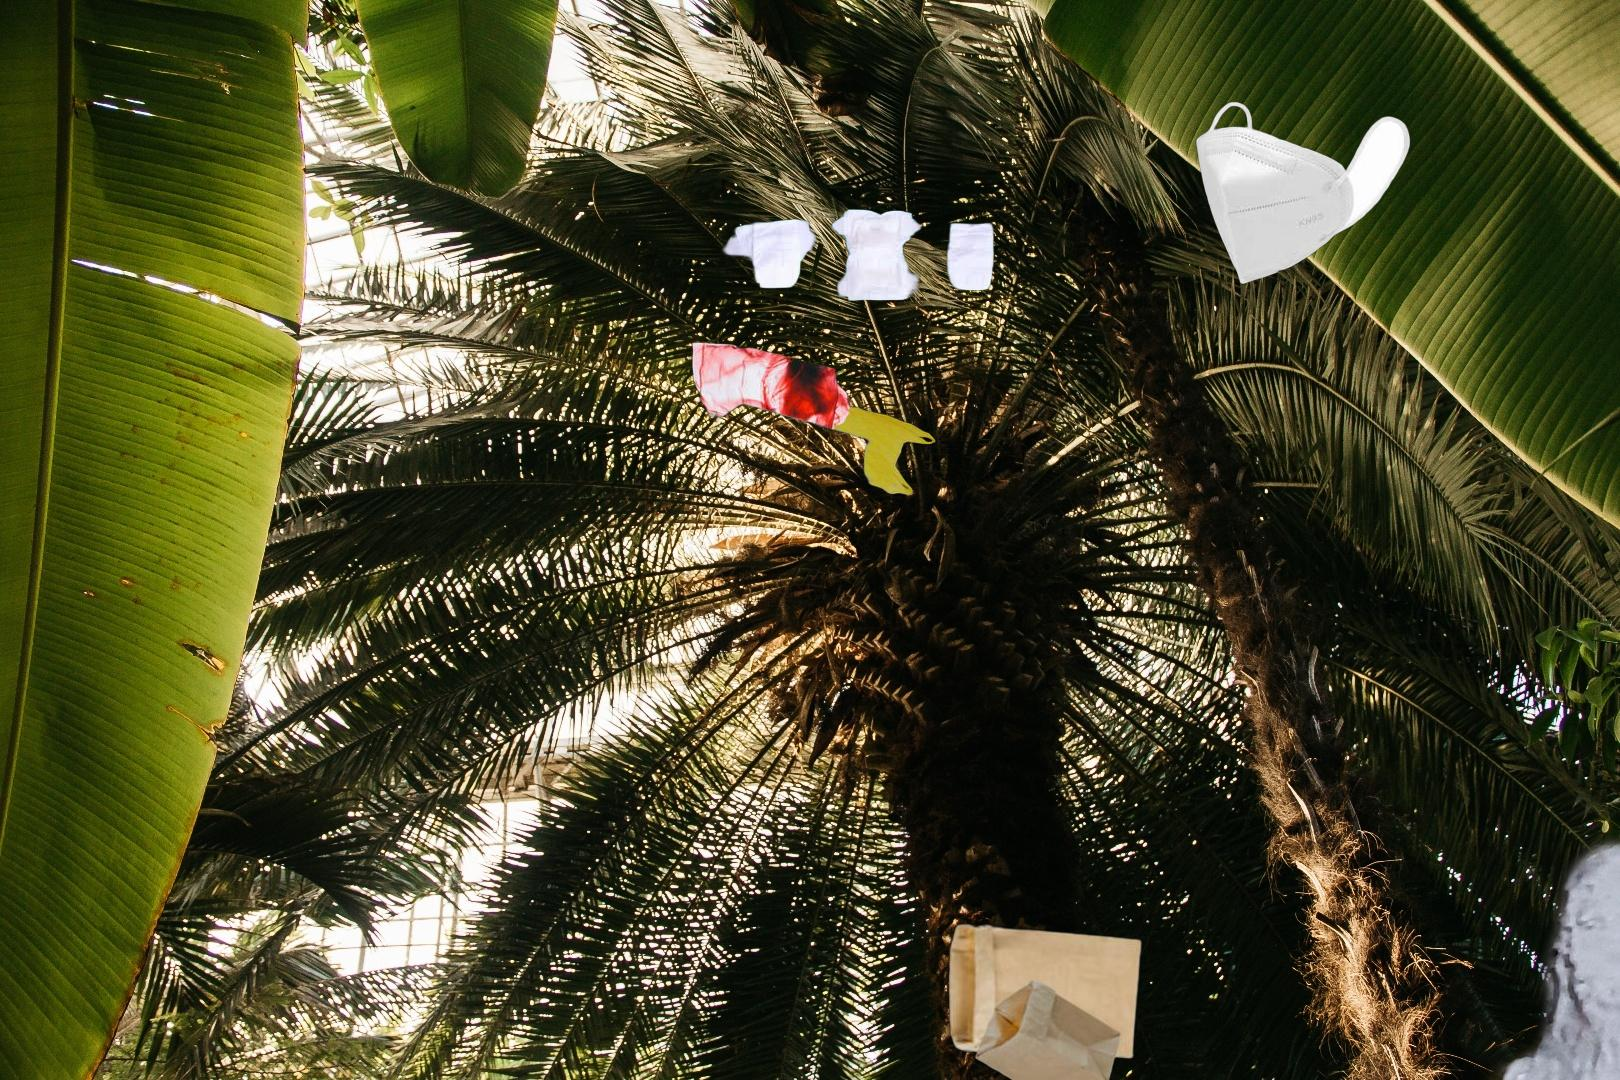paper-bag: (947, 920, 1145, 1080)
penholder: (1612, 1049, 1620, 1080)
plastic-bag: (689, 339, 939, 499)
trash: (1193, 99, 1413, 287), (717, 206, 996, 304)
trashbox-cardboard: (1297, 487, 1620, 1080)
